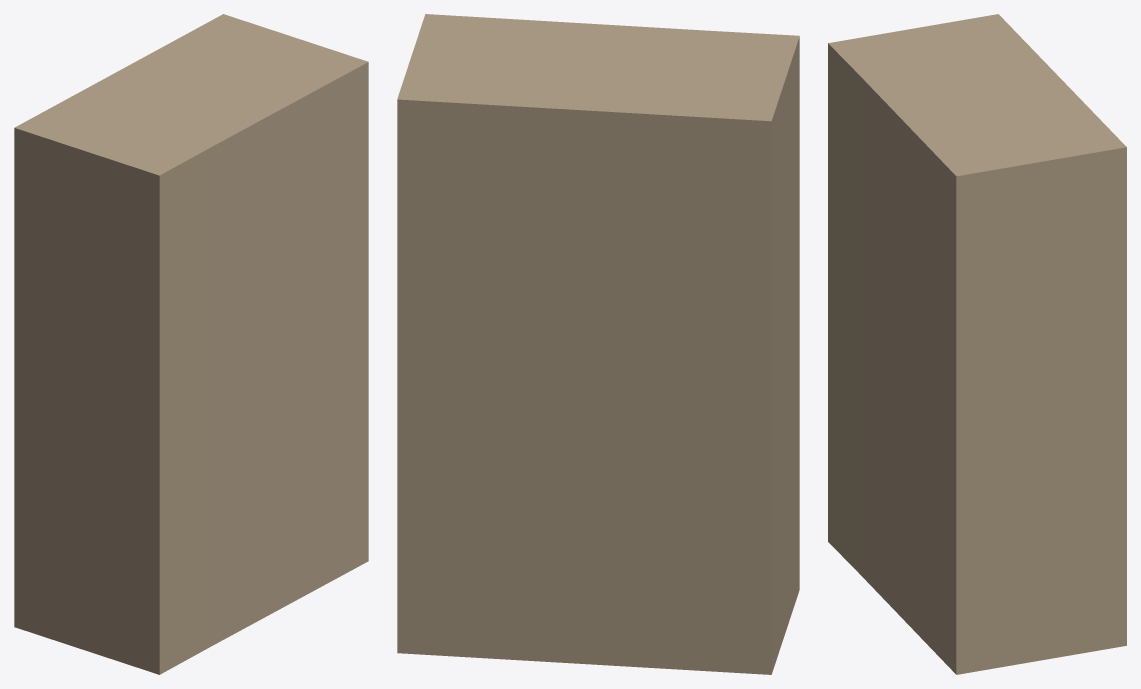
Rendered from bld_106796875.dae.
The picture shows the model from 3 angles, left to right: view 1: azimuth 30°, elevation 25°; view 2: azimuth 150°, elevation 25°; view 3: azimuth 270°, elevation 25°; orthographic projection. The views are drawn at different scales.
Parts seen in each view (by area): view 1: bld_106796875; view 2: bld_106796875; view 3: bld_106796875.
Part boxes in pixels (x1=…): bld_106796875: x1=14, y1=14, x2=368, y2=674; bld_106796875: x1=397, y1=14, x2=799, y2=674; bld_106796875: x1=828, y1=14, x2=1126, y2=674.
Size of the model in its own units: 5.59 by 4.35 by 8.
